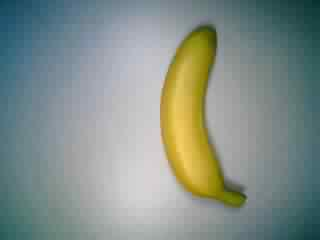banana: (155, 24, 257, 211)
